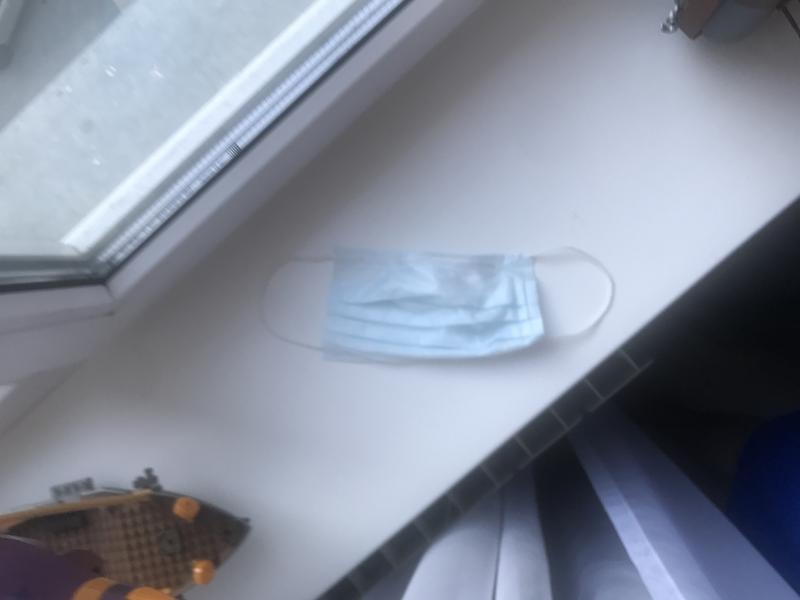medical_mask: (262, 243, 612, 351)
